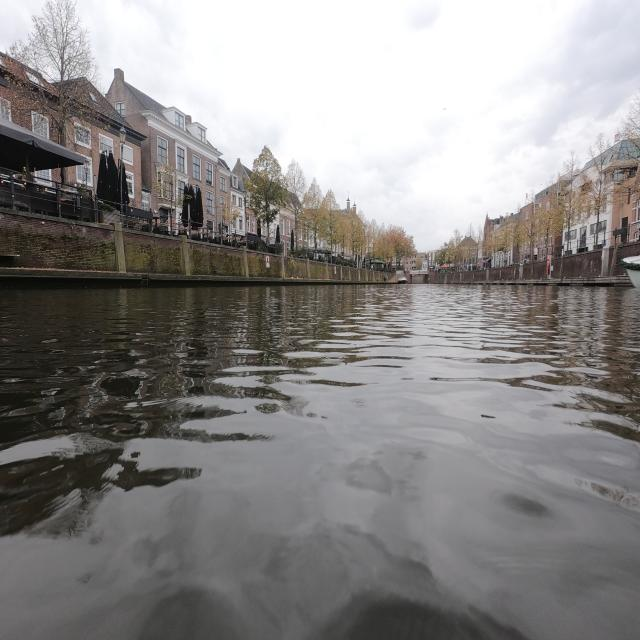dock: (0, 267, 391, 286), (508, 279, 620, 285)
sky: (76, 0, 640, 251)
water: (0, 280, 640, 638)
